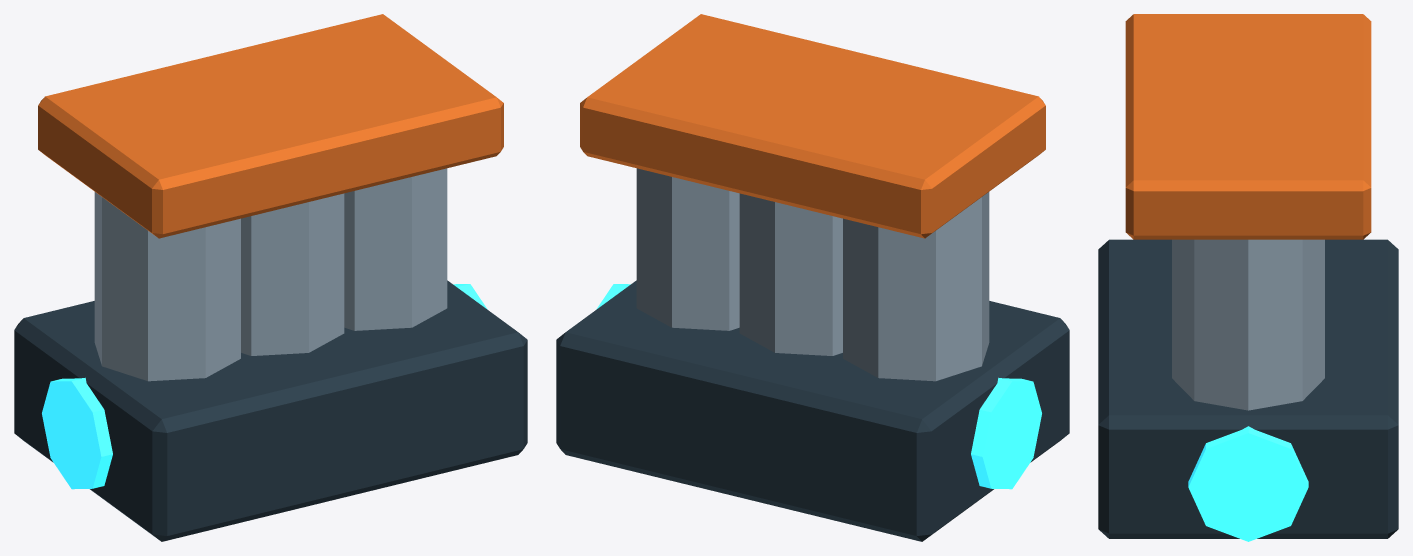
Rendered from layered_engine.glb.
3 views of the same model, side by side, from view 1: azimuth 30°, elevation 25°; view 2: azimuth 150°, elevation 25°; view 3: azimuth 270°, elevation 25° (orthographic).
Visible parts, largest first — view 1: layered_engine; view 2: layered_engine; view 3: layered_engine.
Boxes of the visible parts, x1,y1,x2,y2 form: layered_engine: (14, 14, 527, 541); layered_engine: (556, 14, 1069, 541); layered_engine: (1098, 14, 1398, 541).
Size of the model in its own units: 1.7 by 1.43 by 1.1.
